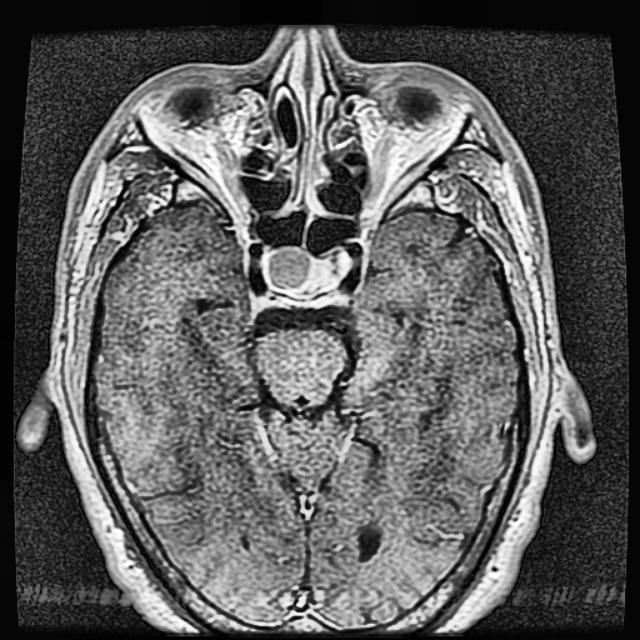Pituitary: (265, 248, 325, 292)
